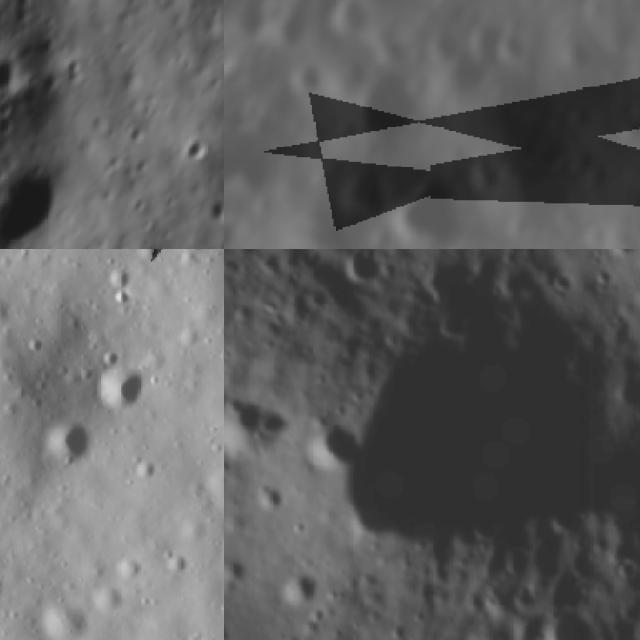crater: (320, 257, 640, 565), (476, 130, 602, 249), (337, 56, 431, 158), (377, 162, 483, 249), (224, 374, 297, 453), (272, 187, 363, 249), (330, 152, 398, 226), (91, 356, 162, 426), (263, 0, 323, 69), (452, 8, 512, 76), (545, 13, 603, 81), (37, 416, 105, 474), (484, 23, 541, 84), (321, 0, 384, 48), (414, 19, 464, 71), (384, 0, 478, 24), (460, 150, 507, 198), (284, 52, 331, 99), (559, 94, 600, 137), (573, 218, 618, 249), (182, 133, 216, 164), (95, 343, 128, 374), (623, 92, 640, 126)
